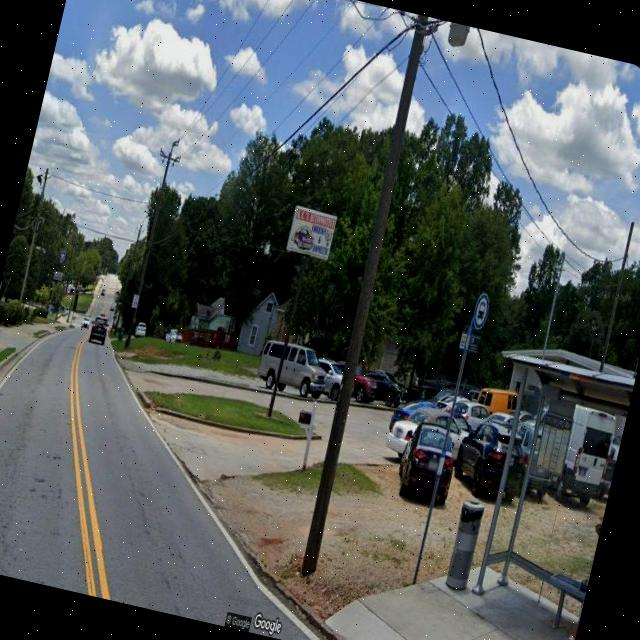seating: (527, 562, 590, 640)
shelter: (434, 345, 635, 640)
trash_can: (442, 498, 486, 593)
